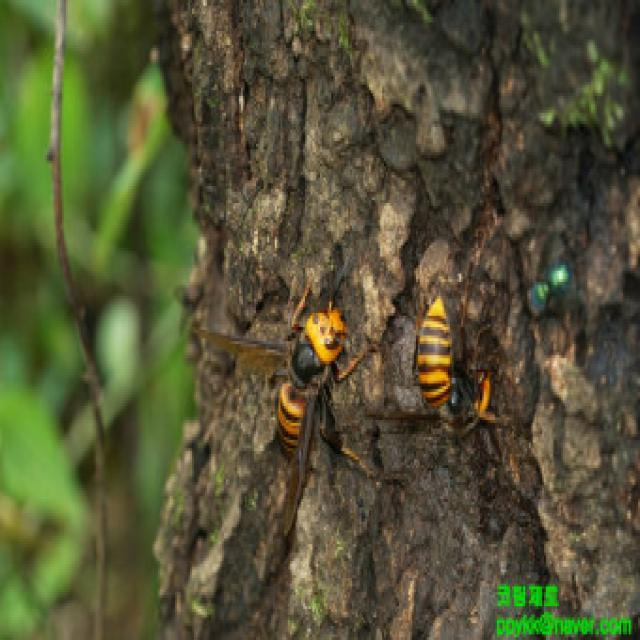Wasp: (196, 270, 372, 482), (412, 283, 508, 443)
